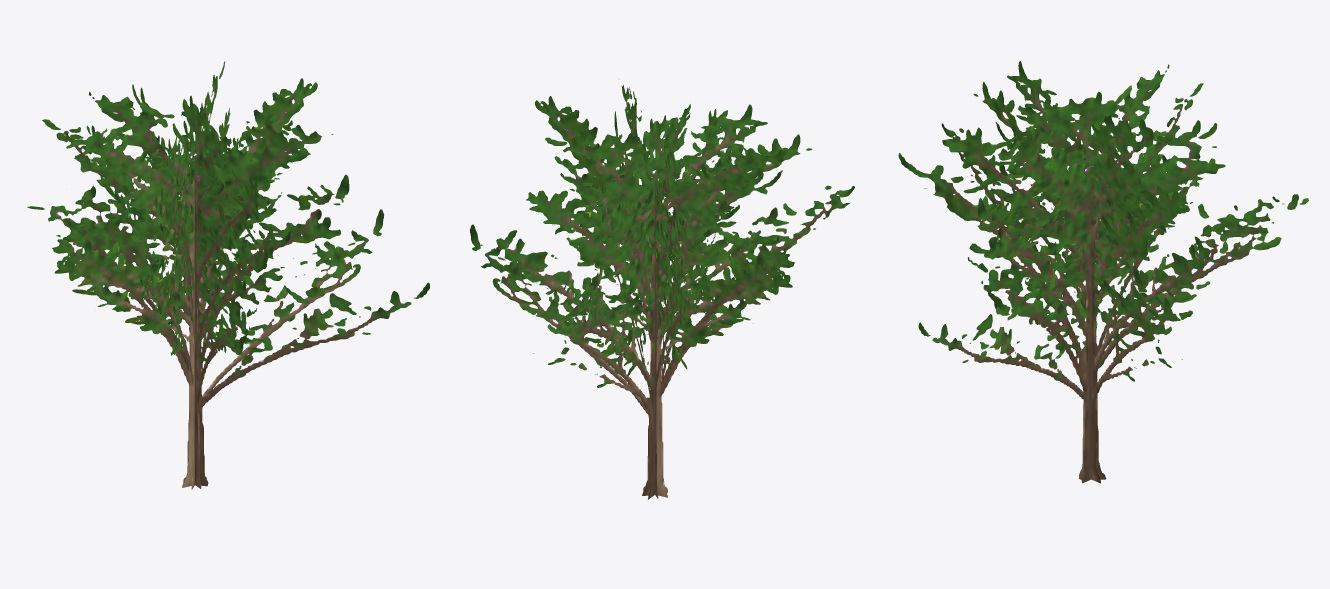
The model's file is b-zelkova.glb.
3 views of the same model, side by side, from view 1: azimuth 30°, elevation 25°; view 2: azimuth 150°, elevation 25°; view 3: azimuth 270°, elevation 25° (orthographic). The views are drawn at different scales.
Visible parts, largest first — view 1: BackgroundTree; view 2: BackgroundTree; view 3: BackgroundTree.
Part boxes in pixels (bbox=[...]): BackgroundTree: bbox=[27, 61, 429, 489]; BackgroundTree: bbox=[470, 79, 854, 499]; BackgroundTree: bbox=[898, 61, 1308, 483].
Bounding box in the file's own units: 2.3 × 2.45 × 2.41.
1 material, 1 textured.
